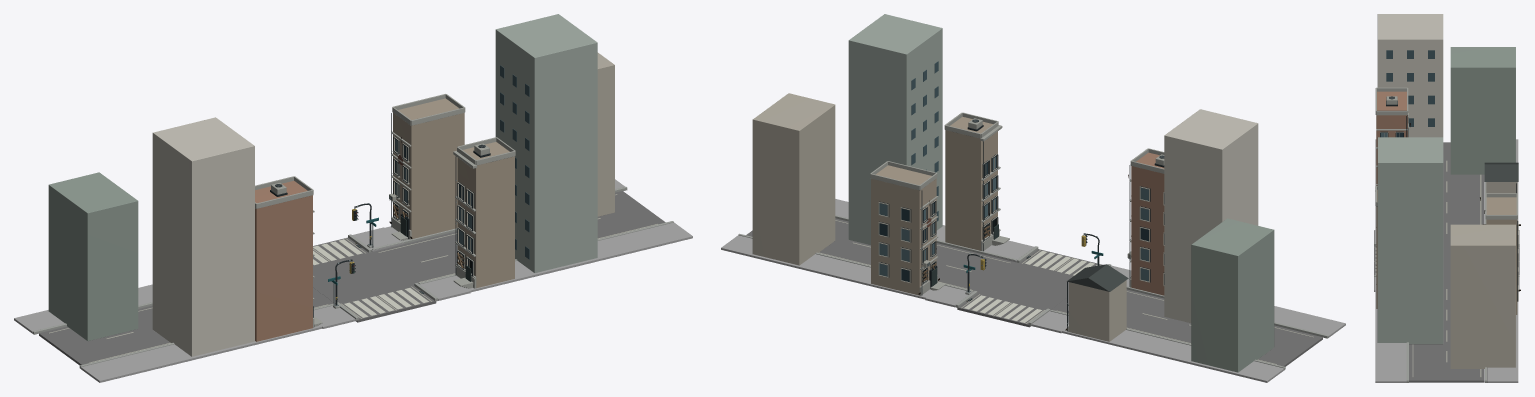
Rendered from city_hd_11.glb.
The picture shows the model from 3 angles, left to right: view 1: azimuth 30°, elevation 25°; view 2: azimuth 150°, elevation 25°; view 3: azimuth 270°, elevation 25°; orthographic projection. The views are drawn at different scales.
Parts seen in each view (by area): view 1: CITY_realwall_c8c5bb, CITY_realwall_a3aea6, CITY_realwall_929f96, CITY_realwall_a99d8c, CITY_PBR_asphalt, CITY_realwall_a5826d, CITY_PBR_pavement, CITY_trim, CITY_realwall_b7b2a5, CITY_curb, CITY_zebra_paint, CITY_recess (+4 smaller); view 2: CITY_realwall_b7b2a5, CITY_realwall_a3aea6, CITY_realwall_c8c5bb, CITY_realwall_929f96, CITY_PBR_asphalt, CITY_realwall_a99d8c, CITY_PBR_pavement, CITY_realwall_a5826d, CITY_trim, CITY_frame, CITY_recess, CITY_curb (+7 smaller); view 3: CITY_realwall_a3aea6, CITY_realwall_b7b2a5, CITY_realwall_929f96, CITY_realwall_c8c5bb, CITY_PBR_asphalt, CITY_PBR_pavement, CITY_realwall_a5826d, CITY_realwall_a99d8c, CITY_trim, CITY_roof, CITY_distant_window, CITY_paint (+3 smaller).
Part boxes in pixels (bbox=[...]): CITY_realwall_c8c5bb: bbox=[152, 117, 254, 356]; CITY_realwall_a3aea6: bbox=[495, 14, 597, 272]; CITY_realwall_929f96: bbox=[48, 172, 138, 341]; CITY_realwall_a99d8c: bbox=[393, 98, 514, 288]; CITY_PBR_asphalt: bbox=[39, 191, 665, 365]; CITY_realwall_a5826d: bbox=[255, 181, 312, 341]; CITY_PBR_pavement: bbox=[14, 179, 692, 382]; CITY_trim: bbox=[255, 94, 515, 327]; CITY_realwall_b7b2a5: bbox=[597, 52, 614, 216]; CITY_curb: bbox=[33, 186, 673, 368]; CITY_zebra_paint: bbox=[313, 239, 428, 317]; CITY_recess: bbox=[313, 137, 474, 317]; CITY_realwall_b7b2a5: bbox=[752, 93, 1126, 341]; CITY_realwall_a3aea6: bbox=[848, 14, 942, 244]; CITY_realwall_c8c5bb: bbox=[1164, 109, 1258, 323]; CITY_realwall_929f96: bbox=[1191, 218, 1274, 372]; CITY_PBR_asphalt: bbox=[746, 218, 1322, 366]; CITY_realwall_a99d8c: bbox=[871, 116, 997, 295]; CITY_PBR_pavement: bbox=[721, 199, 1345, 382]; CITY_realwall_a5826d: bbox=[1131, 152, 1164, 295]; CITY_trim: bbox=[870, 112, 1164, 331]; CITY_frame: bbox=[878, 154, 1164, 286]; CITY_recess: bbox=[879, 154, 1164, 322]; CITY_curb: bbox=[738, 215, 1328, 369]; CITY_realwall_a3aea6: bbox=[1377, 137, 1443, 344]; CITY_realwall_b7b2a5: bbox=[1450, 182, 1517, 368]; CITY_realwall_929f96: bbox=[1450, 47, 1515, 174]; CITY_realwall_c8c5bb: bbox=[1377, 14, 1443, 137]; CITY_PBR_asphalt: bbox=[1374, 142, 1519, 382]; CITY_PBR_pavement: bbox=[1374, 139, 1519, 382]; CITY_realwall_a5826d: bbox=[1376, 91, 1407, 185]; CITY_realwall_a99d8c: bbox=[1376, 189, 1517, 314]; CITY_trim: bbox=[1375, 87, 1517, 284]; CITY_roof: bbox=[1376, 162, 1518, 206]; CITY_distant_window: bbox=[1386, 50, 1434, 126]; CITY_paint: bbox=[1374, 160, 1519, 377].
Size of the model in its own units: 63 by 22.26 by 16.14.
